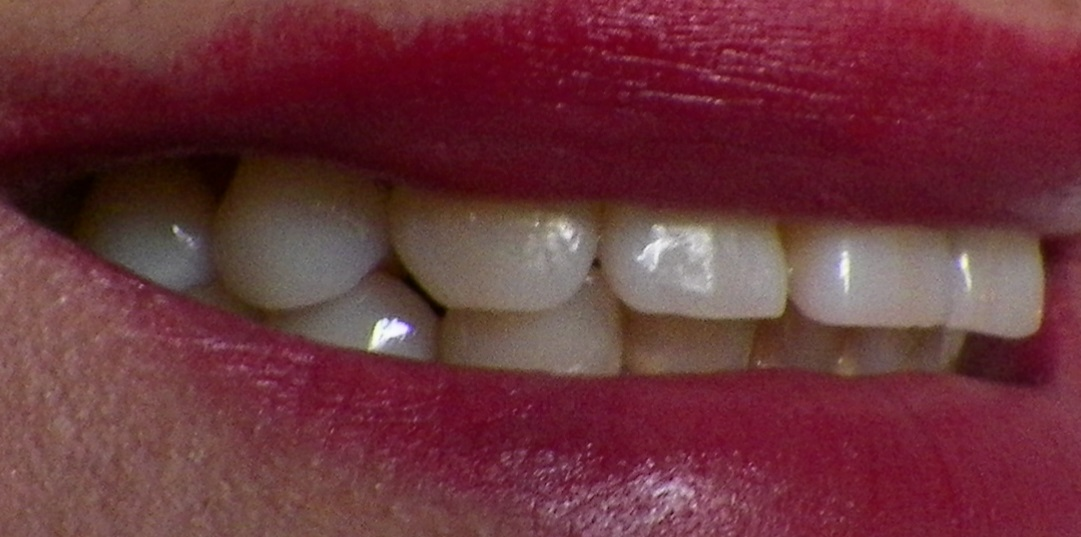boca: (46, 150, 1068, 387)
